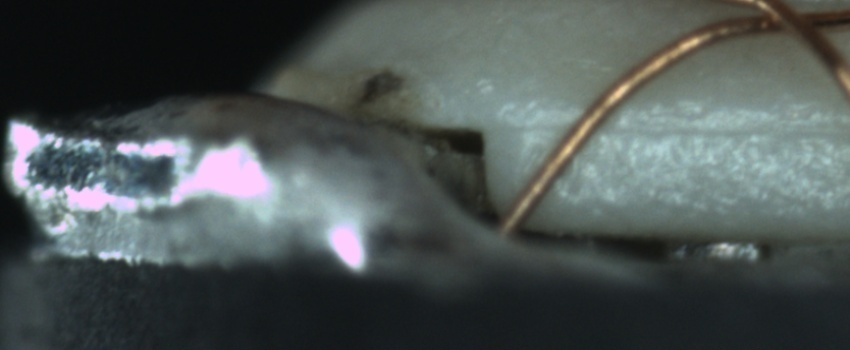CL: (733, 2, 850, 45)
DL: (514, 93, 845, 163)
